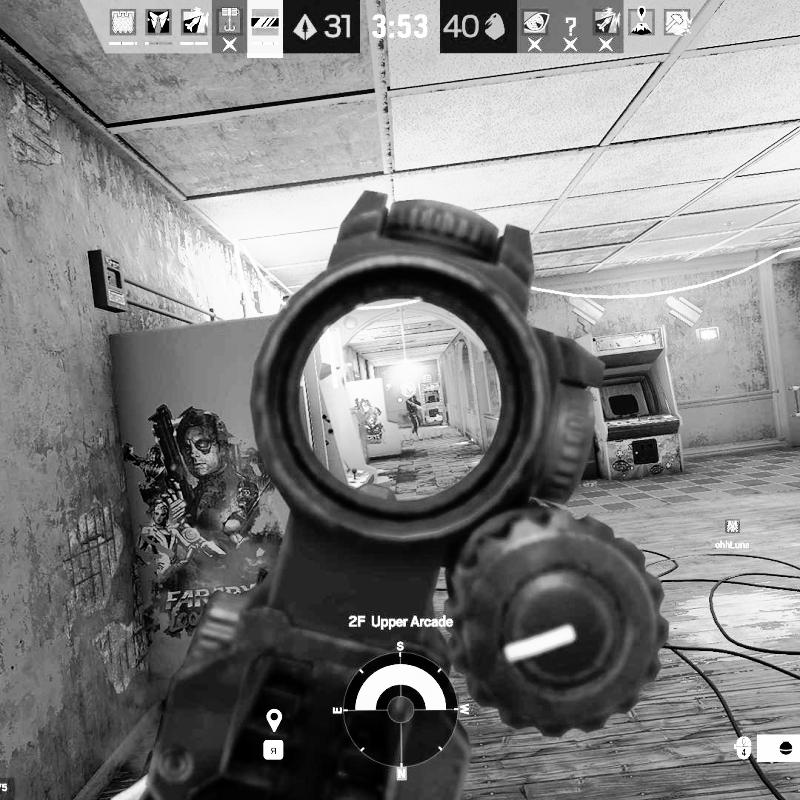Character: (405, 395, 424, 438)
Friend_label: (714, 518, 752, 550)
Head: (411, 395, 416, 401)
